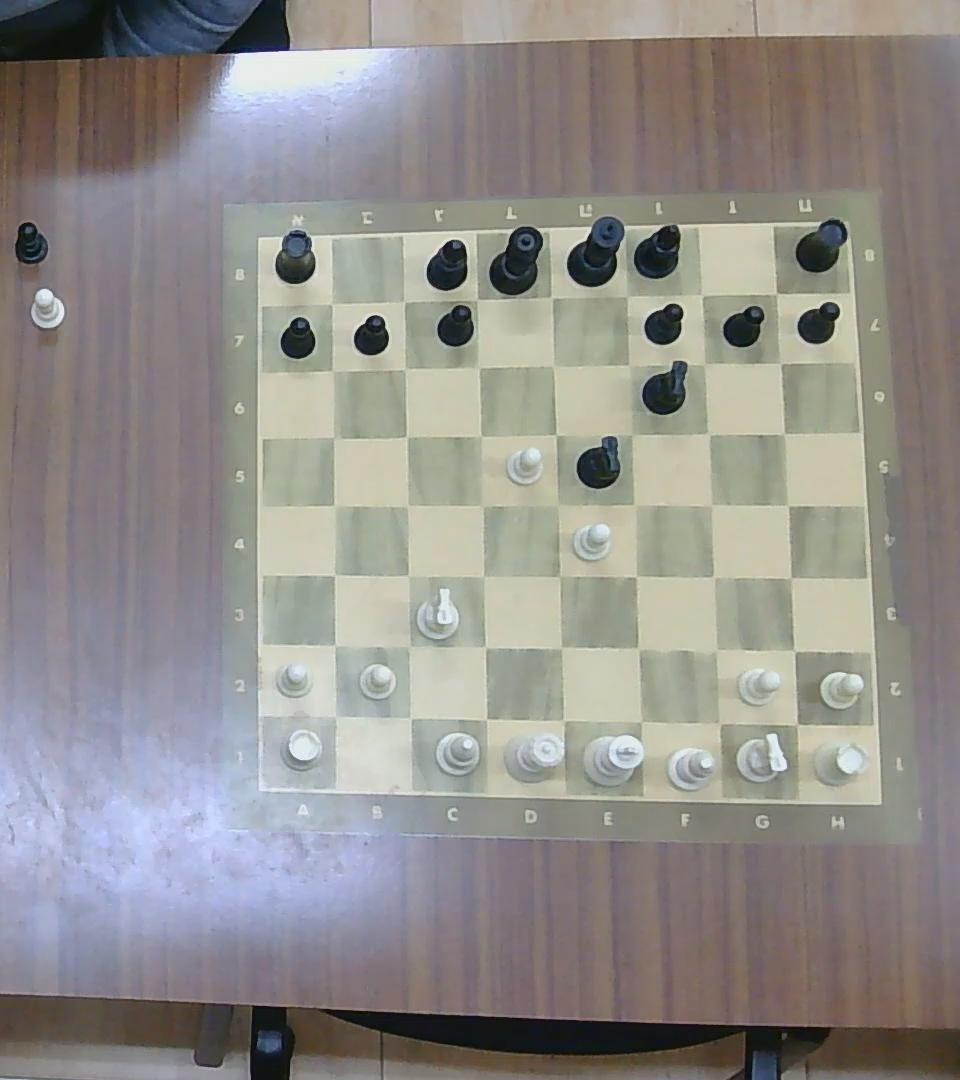xcorner: (701, 705, 735, 738), (621, 631, 654, 664), (624, 703, 656, 737), (545, 631, 577, 664), (468, 630, 500, 662), (780, 706, 812, 738), (470, 702, 501, 734), (699, 634, 731, 665), (547, 704, 578, 736), (319, 699, 350, 731), (393, 701, 424, 732), (775, 561, 806, 592), (777, 634, 808, 665), (698, 561, 728, 592), (621, 560, 651, 590), (468, 560, 498, 590), (393, 631, 423, 661), (544, 560, 574, 590), (320, 629, 349, 659), (616, 419, 645, 448), (393, 561, 423, 589), (543, 490, 573, 518), (467, 490, 496, 518), (320, 559, 348, 588), (773, 490, 802, 518), (393, 490, 421, 518), (697, 490, 725, 518), (621, 490, 649, 518), (320, 491, 349, 518), (537, 283, 566, 310), (463, 285, 491, 312), (543, 420, 570, 447), (318, 421, 345, 448), (318, 356, 345, 382), (771, 420, 798, 446), (614, 282, 641, 308), (540, 352, 566, 379), (317, 291, 345, 316), (393, 422, 419, 448), (467, 422, 493, 448), (695, 420, 721, 446), (616, 351, 642, 377), (763, 281, 789, 305), (691, 350, 716, 374), (767, 350, 792, 374), (391, 356, 415, 379), (690, 283, 714, 306), (466, 354, 490, 377), (391, 290, 415, 313)
